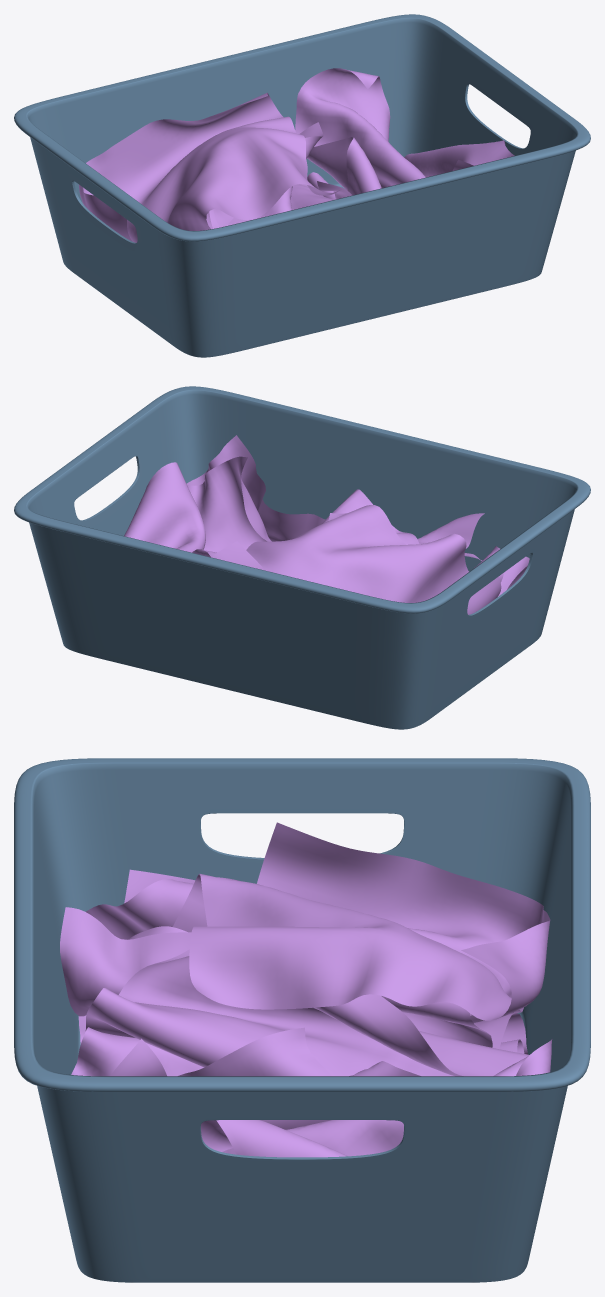
The model's file is HP_PaperBasket_01.fbx.
The picture shows the model from 3 angles, top to bottom: view 1: azimuth 30°, elevation 25°; view 2: azimuth 150°, elevation 25°; view 3: azimuth 270°, elevation 25°; orthographic projection. The views are drawn at different scales.
Parts seen in each view (by area): view 1: pasted__pasted__pasted__pasted__pasted__polySurface5; view 2: pasted__pasted__pasted__pasted__pasted__polySurface5; view 3: pasted__pasted__pasted__pasted__pasted__polySurface5.
Part boxes in pixels (bbox=[...]): pasted__pasted__pasted__pasted__pasted__polySurface5: bbox=[14, 14, 590, 357]; pasted__pasted__pasted__pasted__pasted__polySurface5: bbox=[14, 386, 590, 729]; pasted__pasted__pasted__pasted__pasted__polySurface5: bbox=[14, 758, 590, 1282].
Size of the model in its own units: 37.16 by 11.85 by 27.56.
